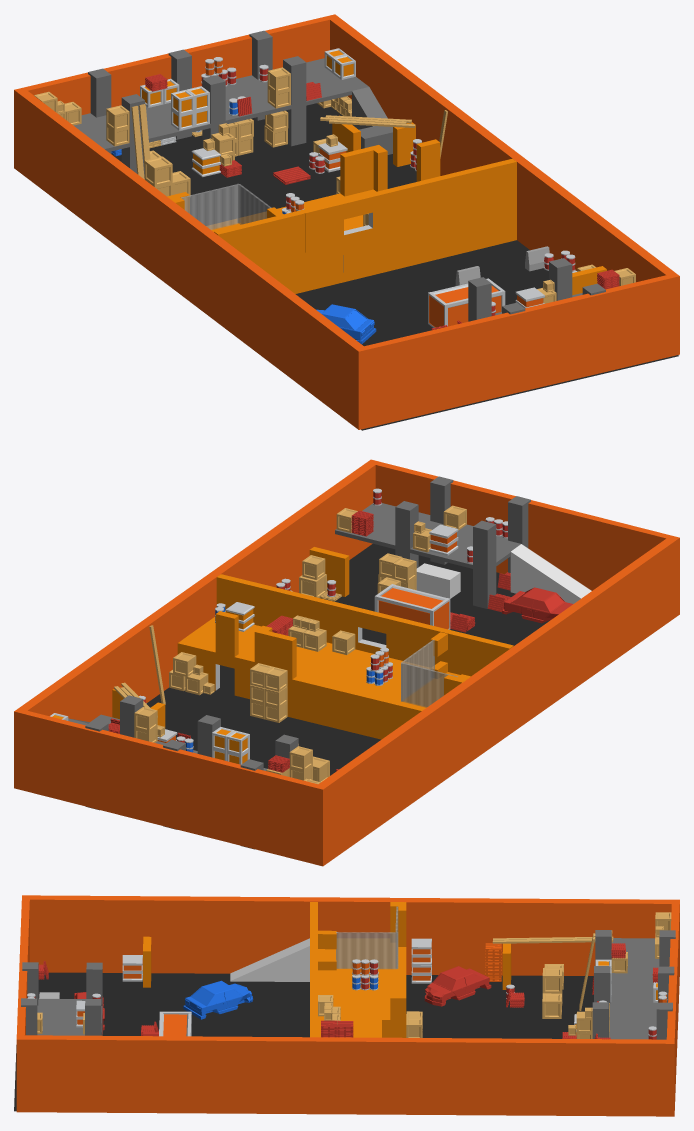
Rendered from map2Finalglass.glb.
3 views of the same model, one above another, from view 1: azimuth 30°, elevation 25°; view 2: azimuth 150°, elevation 25°; view 3: azimuth 270°, elevation 25° (orthographic). The views are drawn at different scales.
Visible parts, largest first — view 1: floors, room.001, Plane, Cube.004, Cube.016, _x0023_BEGIN_WALLcon_mur.jpg1110_x002C_3.001, up2, Cube.005, Cube.035, _x0023_BEGIN_WALLcon_mur.jpg1110_x002C_3.002, Cube, Box.056 (+1 smaller); view 2: floors, room.001, Plane, Cube.016, Cube.004, Cube.012, Cube.005, _x0023_BEGIN_WALLcon_mur.jpg1110_x002C_3.001, Cube.007, Cube.011, _x0023_BEGIN_WALLcon_mur.jpg1110_x002C_3.002, obj.028 (+1 smaller); view 3: floors, Plane, room.001, Cube.004, Cube.016, _x0023_BEGIN_WALLcon_mur.jpg1110_x002C_3.002, Cube.002, Cube.035, Cube.006, Cube.005, BigBox.001, BigBox.010 (+8 smaller).
Boxes of the visible parts, <box> form: floors: <box>14,14,679,429</box>; room.001: <box>167,139,516,293</box>; Plane: <box>111,103,678,430</box>; Cube.004: <box>74,30,368,177</box>; Cube.016: <box>468,258,605,321</box>; _x0023_BEGIN_WALLcon_mur.jpg1110_x002C_3.001: <box>181,184,238,229</box>; up2: <box>352,87,392,154</box>; Cube.005: <box>428,278,505,327</box>; Cube.035: <box>316,304,376,344</box>; _x0023_BEGIN_WALLcon_mur.jpg1110_x002C_3.002: <box>237,183,271,224</box>; Cube: <box>393,122,415,166</box>; Box.056: <box>144,156,172,186</box>; floors: <box>14,459,679,866</box>; room.001: <box>177,574,513,739</box>; Plane: <box>146,543,549,775</box>; Cube.016: <box>335,476,530,608</box>; Cube.004: <box>68,695,298,849</box>; Cube.012: <box>510,544,591,603</box>; Cube.005: <box>374,584,450,629</box>; _x0023_BEGIN_WALLcon_mur.jpg1110_x002C_3.001: <box>401,663,457,707</box>; Cube.007: <box>502,587,572,623</box>; Cube.011: <box>416,563,460,598</box>; _x0023_BEGIN_WALLcon_mur.jpg1110_x002C_3.002: <box>401,639,434,701</box>; obj.028: <box>309,547,349,596</box>; floors: <box>16,895,679,1116</box>; Plane: <box>14,972,593,1111</box>; room.001: <box>310,902,406,1037</box>; Cube.004: <box>592,930,675,1039</box>; Cube.016: <box>21,962,102,1035</box>; _x0023_BEGIN_WALLcon_mur.jpg1110_x002C_3.002: <box>336,932,398,969</box>; Cube.002: <box>230,938,309,981</box>; Cube.035: <box>183,980,253,1019</box>; Cube.006: <box>424,966,491,1006</box>; Cube.005: <box>159,1011,191,1036</box>; BigBox.001: <box>411,938,431,965</box>; BigBox.010: <box>122,955,142,981</box>.
Size of the model in its own units: 35.03 by 8.4 by 66.39.
26 materials, 2 textured.
